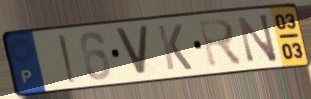6: (78, 29, 113, 82)
I: (56, 32, 79, 85)
K: (155, 23, 195, 73)
N: (234, 11, 280, 64)
R: (196, 16, 246, 71)
V: (113, 24, 151, 78)
